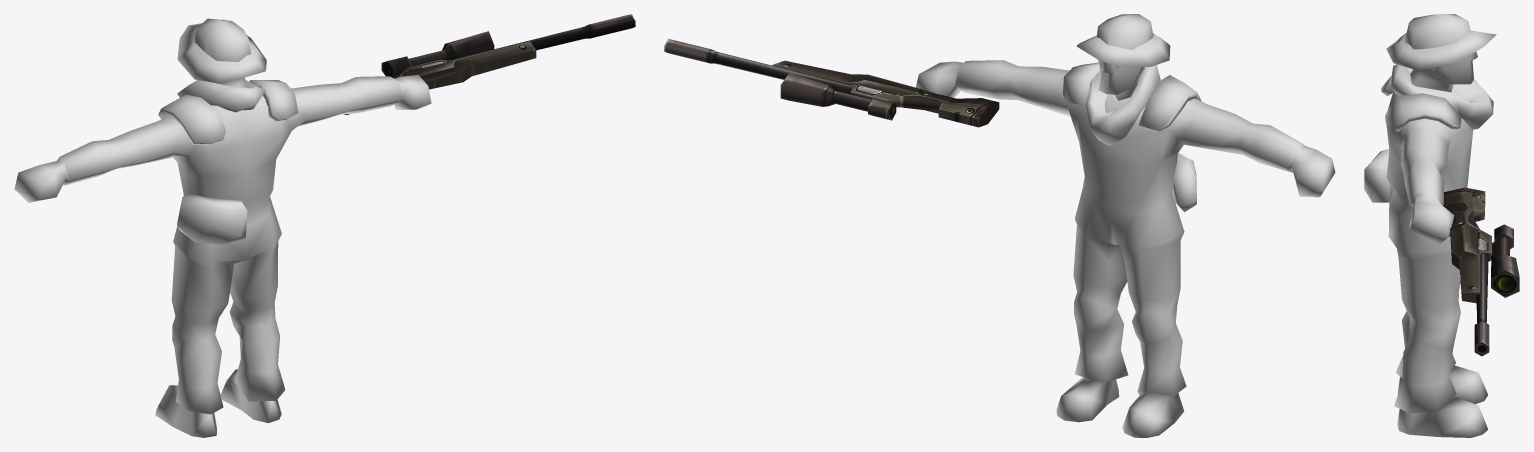
The picture shows the model from 3 angles, left to right: view 1: azimuth 30°, elevation 25°; view 2: azimuth 150°, elevation 25°; view 3: azimuth 270°, elevation 25°; orthographic projection.
Visible parts, largest first — view 1: TS_Body_04_sniper, weapon_sniper_rifle, TS_Head_04_sniper; view 2: TS_Body_04_sniper, weapon_sniper_rifle, TS_Head_04_sniper; view 3: TS_Body_04_sniper, weapon_sniper_rifle, TS_Head_04_sniper.
Part boxes in pixels (bbox=[...]): TS_Body_04_sniper: bbox=[14, 75, 431, 437]; weapon_sniper_rifle: bbox=[344, 14, 635, 114]; TS_Head_04_sniper: bbox=[177, 18, 266, 87]; TS_Body_04_sniper: bbox=[916, 60, 1335, 437]; weapon_sniper_rifle: bbox=[664, 38, 999, 127]; TS_Head_04_sniper: bbox=[1076, 14, 1170, 100]; TS_Body_04_sniper: bbox=[1364, 64, 1493, 437]; weapon_sniper_rifle: bbox=[1443, 187, 1519, 356]; TS_Head_04_sniper: bbox=[1386, 14, 1496, 92].
Bounding box in the file's own units: 4.31 × 2.54 × 0.9012.
